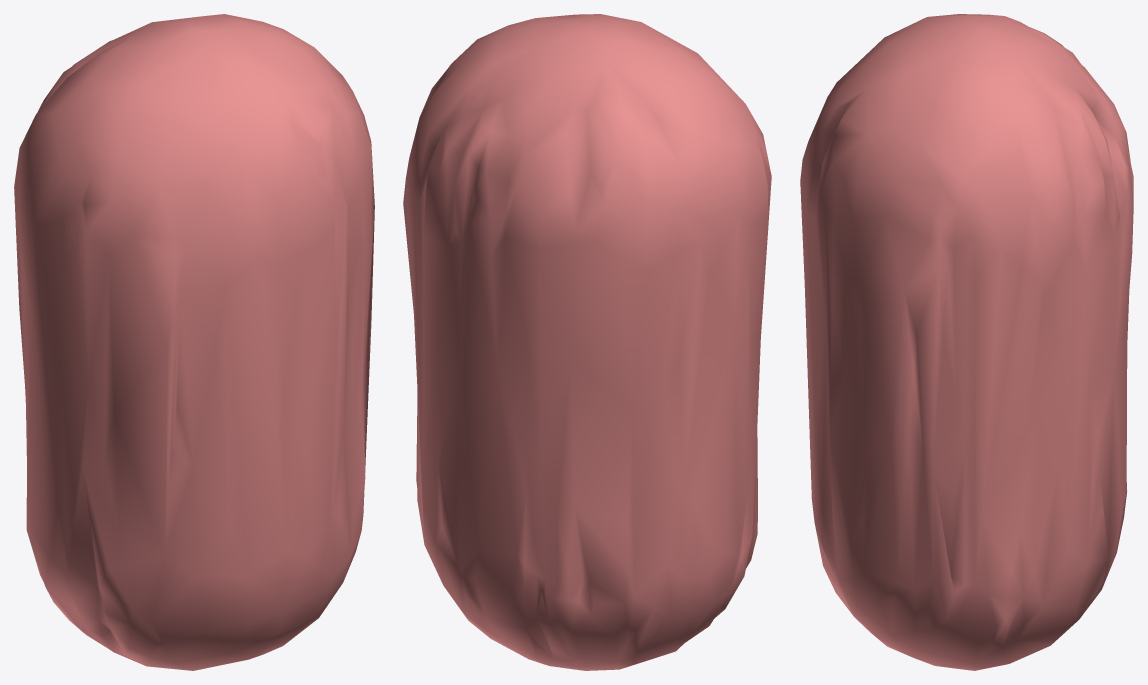
Rendered from visceras-uvula-of-palate.glb.
3 views of the same model, side by side, from view 1: azimuth 30°, elevation 25°; view 2: azimuth 150°, elevation 25°; view 3: azimuth 270°, elevation 25° (orthographic).
Visible parts, largest first — view 1: Uvula of palate; view 2: Uvula of palate; view 3: Uvula of palate.
Part boxes in pixels (left/top/right/bottom): Uvula of palate: left=14, top=14, right=374, bottom=670; Uvula of palate: left=403, top=14, right=771, bottom=670; Uvula of palate: left=800, top=14, right=1133, bottom=670.
Bounding box in the file's own units: 0.005 × 0.00929 × 0.0045.
